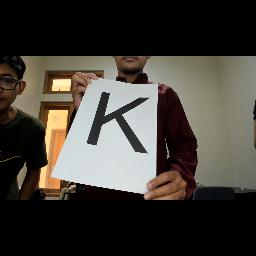k: (85, 88, 155, 158)
